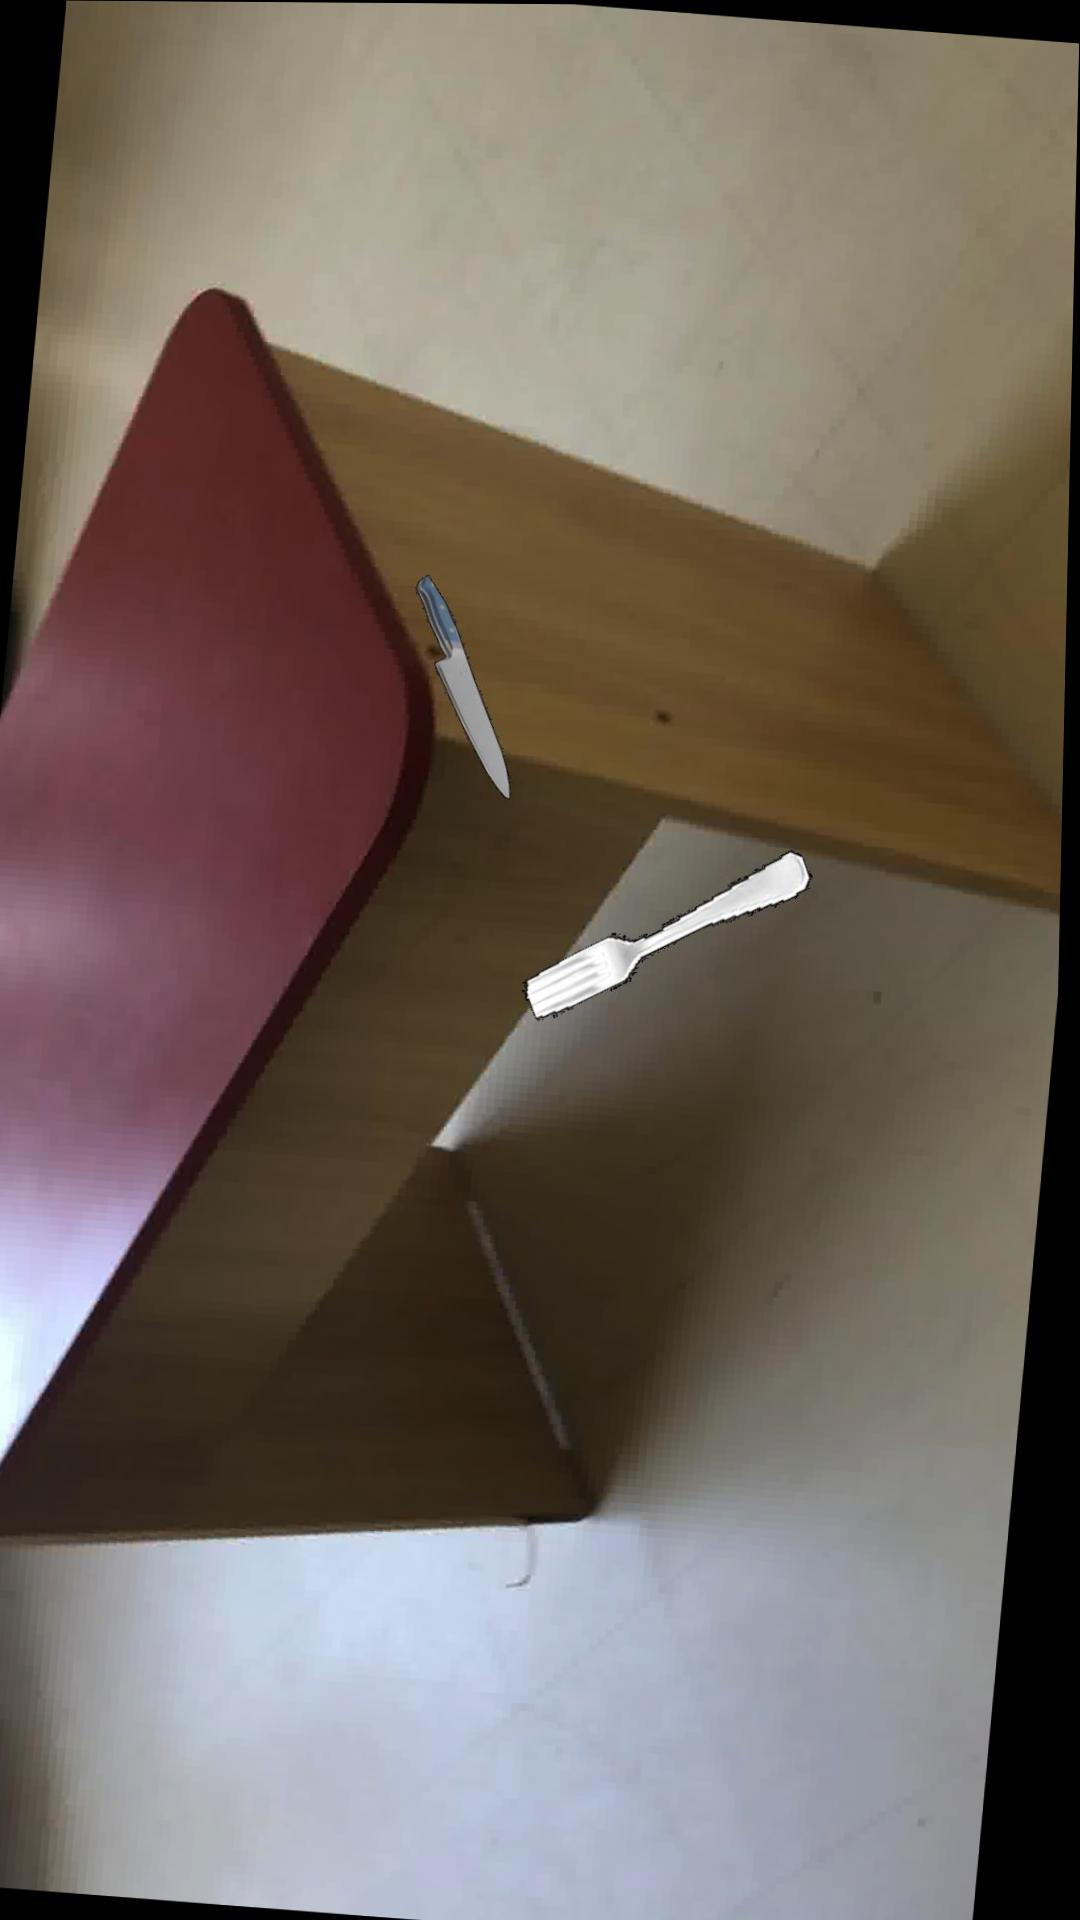fork: (527, 851, 818, 1021)
knife: (419, 576, 516, 800)
